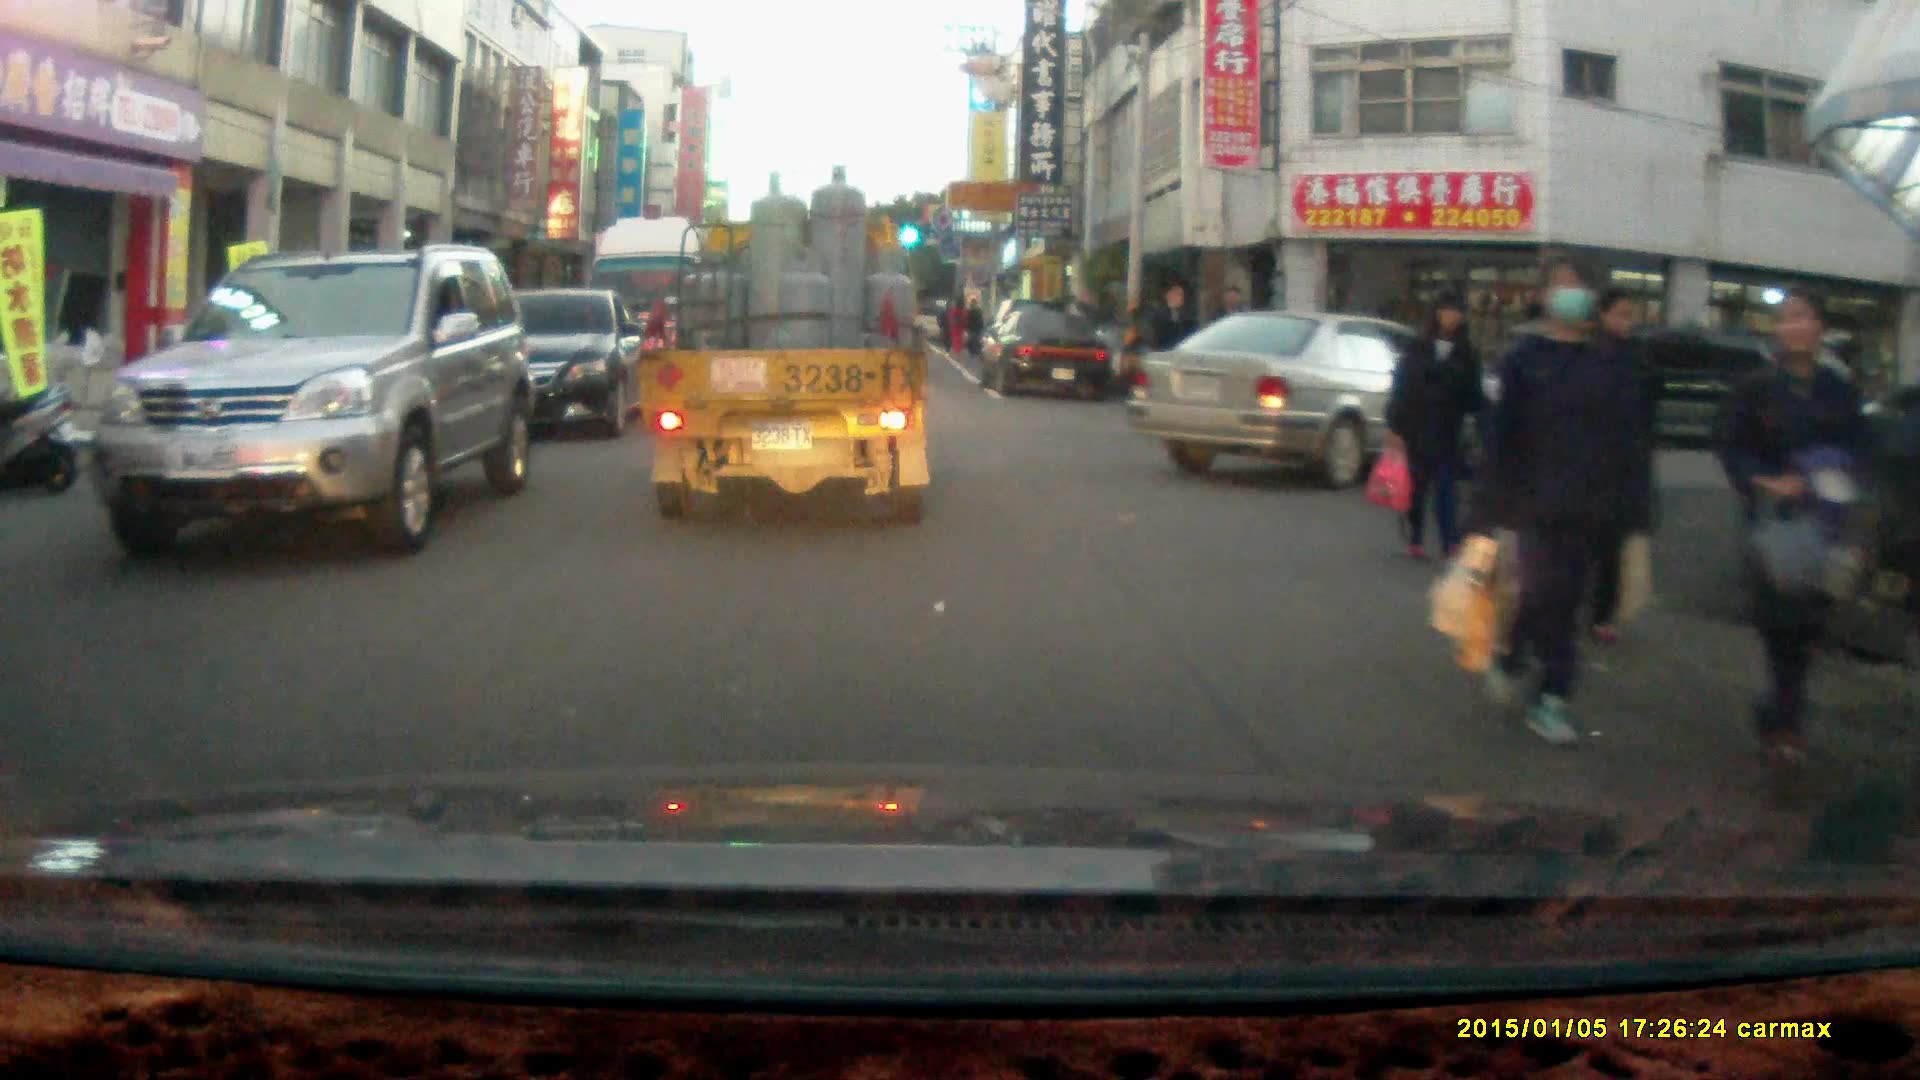pedestrian: (1480, 254, 1647, 748), (1719, 280, 1864, 792), (1384, 284, 1491, 580), (1151, 278, 1206, 445)
vehicle: (89, 242, 532, 554), (637, 160, 935, 523), (1131, 309, 1529, 489), (432, 285, 643, 435), (585, 214, 746, 402), (981, 300, 1116, 396)
